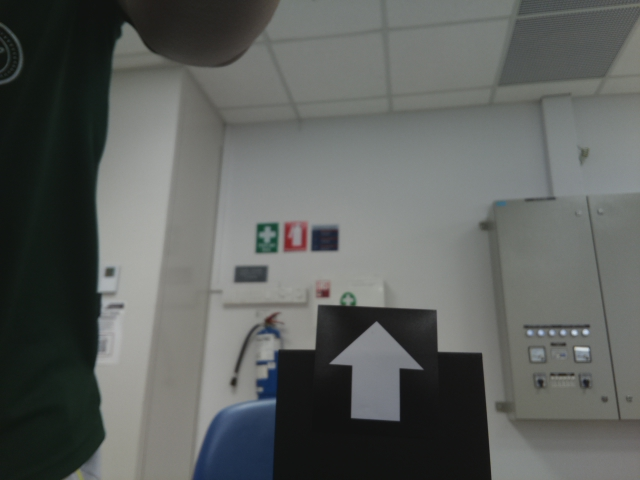up: (327, 311, 425, 421)
